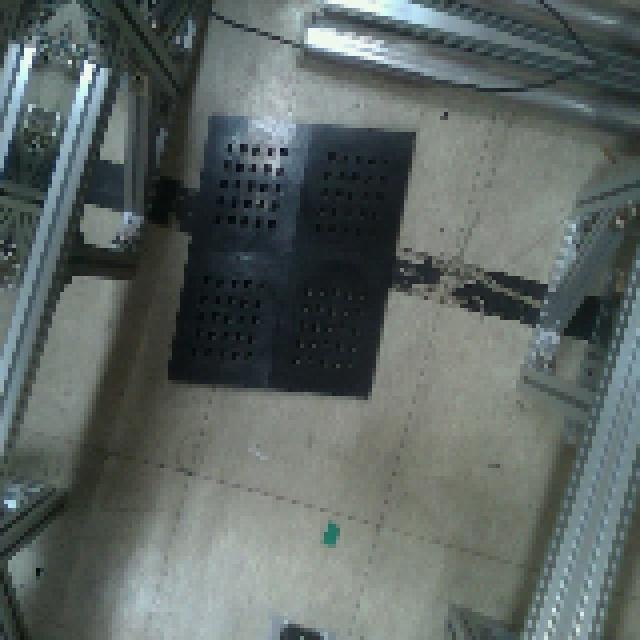pallet: (162, 108, 420, 404)
